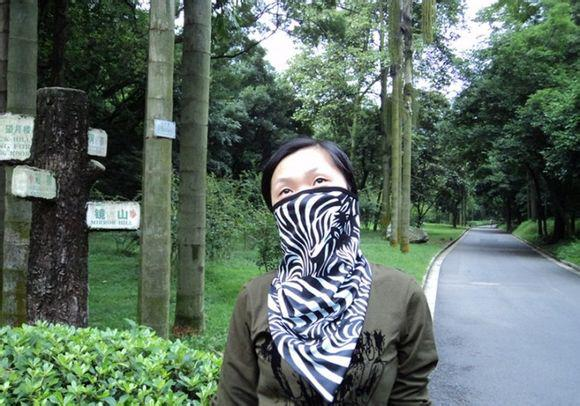OK: (270, 162, 347, 239)
